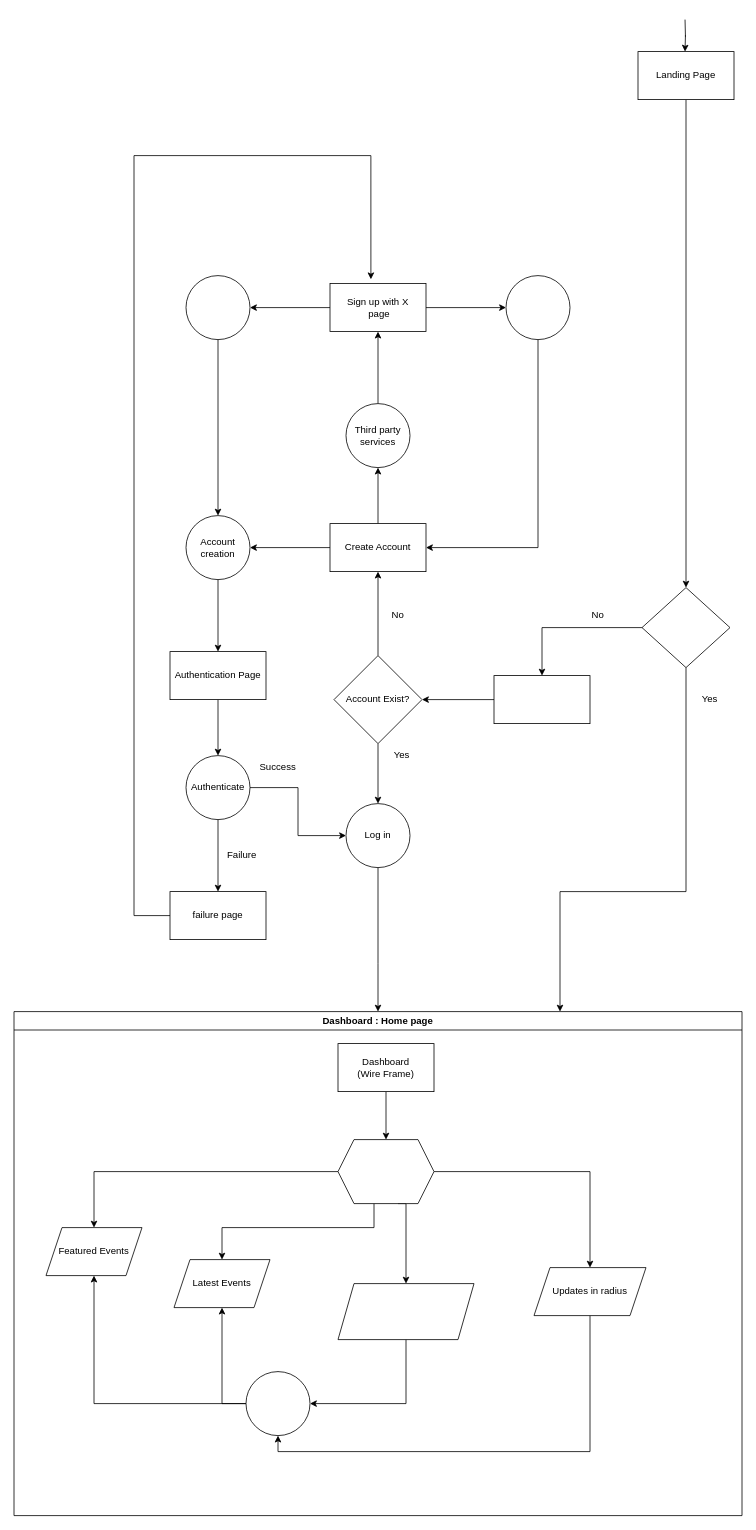
Image size: 756x1530. Some labels were removed from this diagram. Here are the shapes that lost their labels. From the top down, the centre of each, then its label:
At (x=217, y=307): "Information Retrival".
At (x=537, y=307): "Cancellation".
At (x=685, y=627): "is logged in?".
At (x=541, y=699): "Login Page".
At (x=385, y=1171): "Service selection".
At (x=405, y=1311): "Updates in Location".
At (x=277, y=1403): "Updates fetched".
